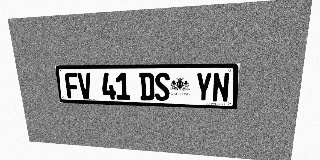1: (115, 73, 130, 100)
4: (101, 73, 116, 100)
D: (139, 73, 155, 101)
F: (64, 73, 80, 99)
N: (212, 73, 230, 103)
S: (154, 73, 170, 101)
V: (77, 73, 93, 99)
Y: (195, 73, 212, 102)
